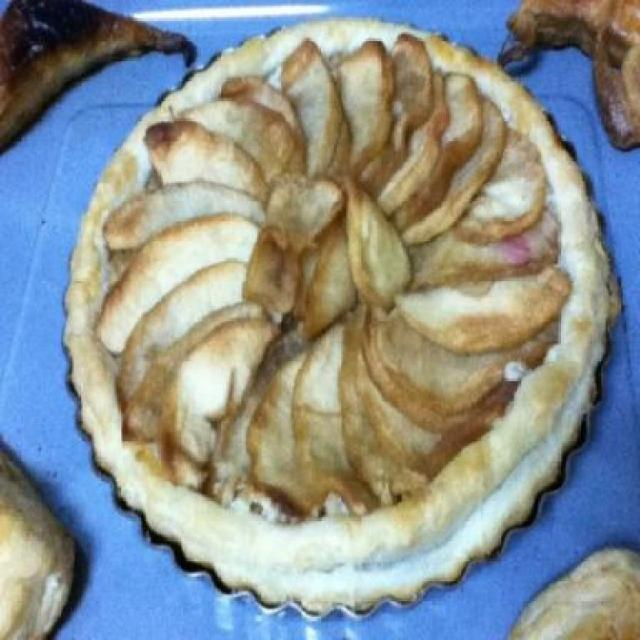Apple: (62, 4, 612, 633)
